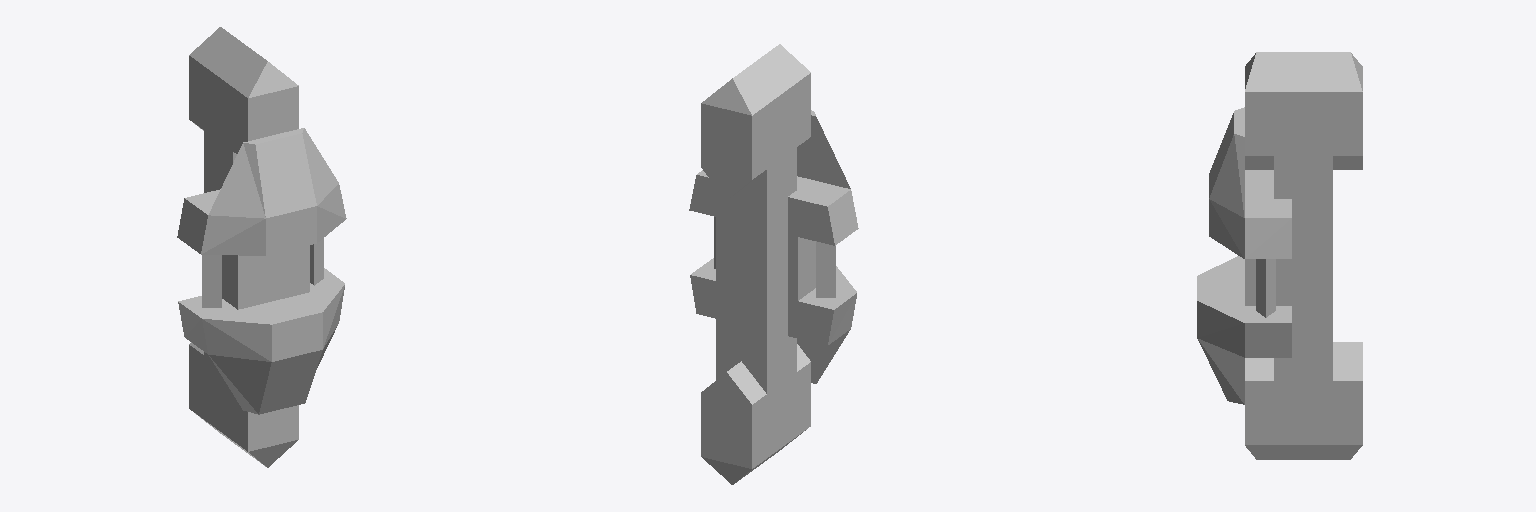
Rendered from zaktan_ubone1.obj.
3 views of the same model, side by side, from view 1: azimuth 30°, elevation 25°; view 2: azimuth 150°, elevation 25°; view 3: azimuth 270°, elevation 25° (orthographic).
Parts seen in each view (by area): view 1: zaktaan.zaktaan.smd.mesh_0.003_zaktaan.zaktaan.smd.mesh_0.005; view 2: zaktaan.zaktaan.smd.mesh_0.003_zaktaan.zaktaan.smd.mesh_0.005; view 3: zaktaan.zaktaan.smd.mesh_0.003_zaktaan.zaktaan.smd.mesh_0.005.
Part boxes in pixels (x1,y1,x2,y2): zaktaan.zaktaan.smd.mesh_0.003_zaktaan.zaktaan.smd.mesh_0.005: (177, 27, 346, 467); zaktaan.zaktaan.smd.mesh_0.003_zaktaan.zaktaan.smd.mesh_0.005: (689, 44, 858, 484); zaktaan.zaktaan.smd.mesh_0.003_zaktaan.zaktaan.smd.mesh_0.005: (1197, 52, 1362, 459).
Bounding box in the file's own units: 7.04 × 18.77 × 6.91.